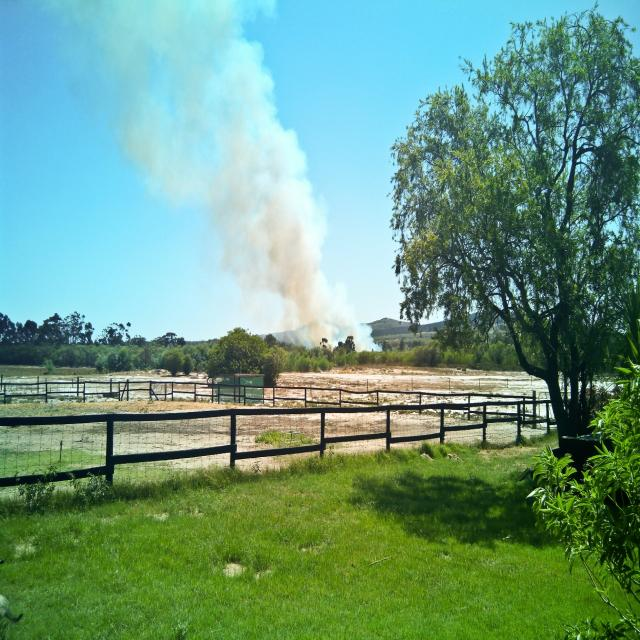Smoke: (98, 4, 384, 348)
